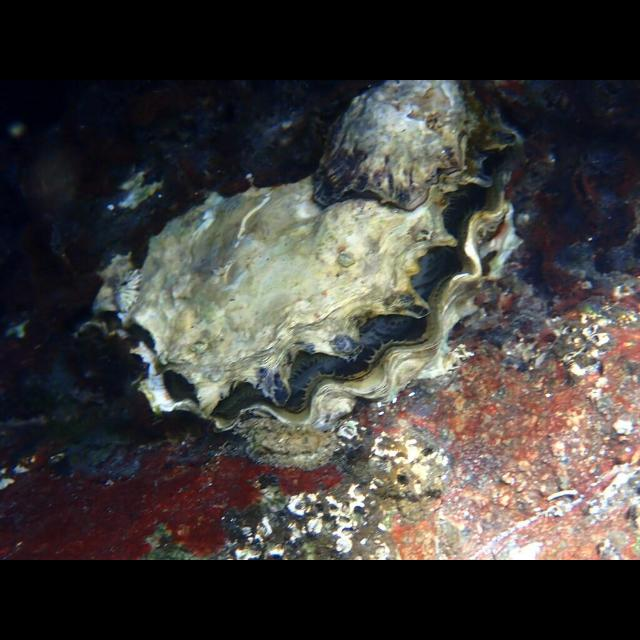Oyster-Open: (120, 80, 520, 430)
